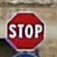stop: (4, 9, 47, 52)
